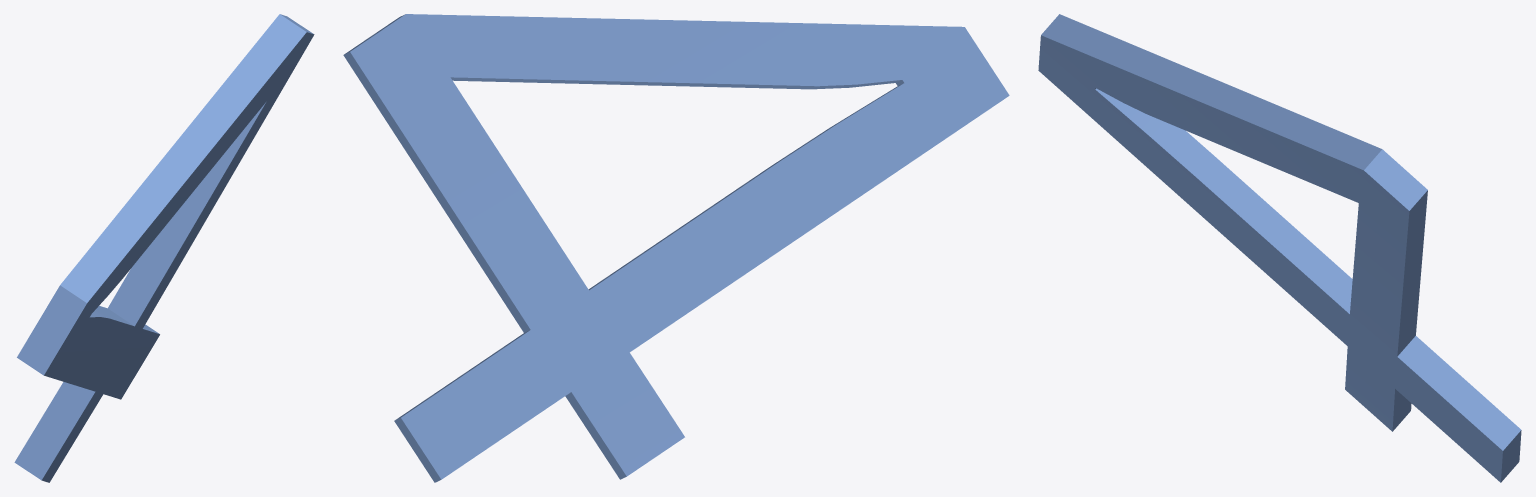
The model's file is New_Number_4.gltf.
The picture shows the model from 3 angles, left to right: view 1: azimuth 30°, elevation 25°; view 2: azimuth 150°, elevation 25°; view 3: azimuth 270°, elevation 25°; orthographic projection. The views are drawn at different scales.
Visible parts, largest first — view 1: Part 355; view 2: Part 355; view 3: Part 355.
Boxes of the visible parts, left/top/right/bottom form: Part 355: left=14, top=14, right=314, bottom=482; Part 355: left=343, top=14, right=1009, bottom=482; Part 355: left=1038, top=14, right=1521, bottom=482.
Size of the model in its own units: 0.00444 by 0.00362 by 0.00414.
